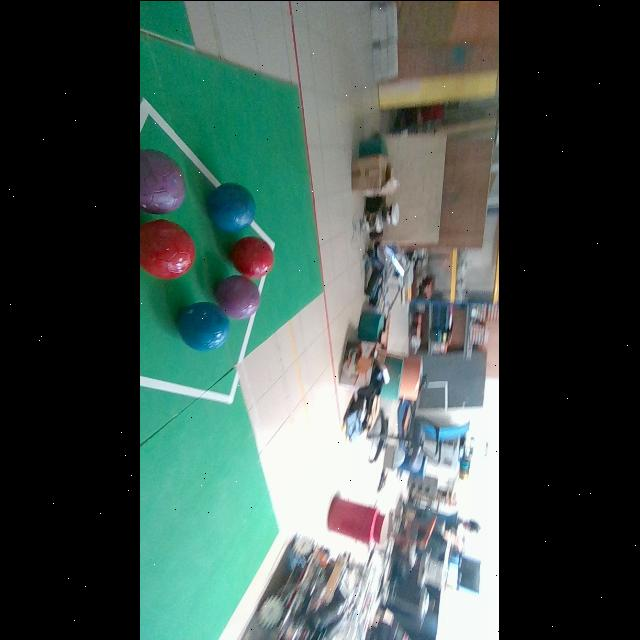B: (178, 301, 230, 350), (208, 182, 256, 232)
P: (140, 148, 185, 214), (215, 274, 261, 318)
R: (140, 219, 195, 278), (231, 236, 274, 278)
